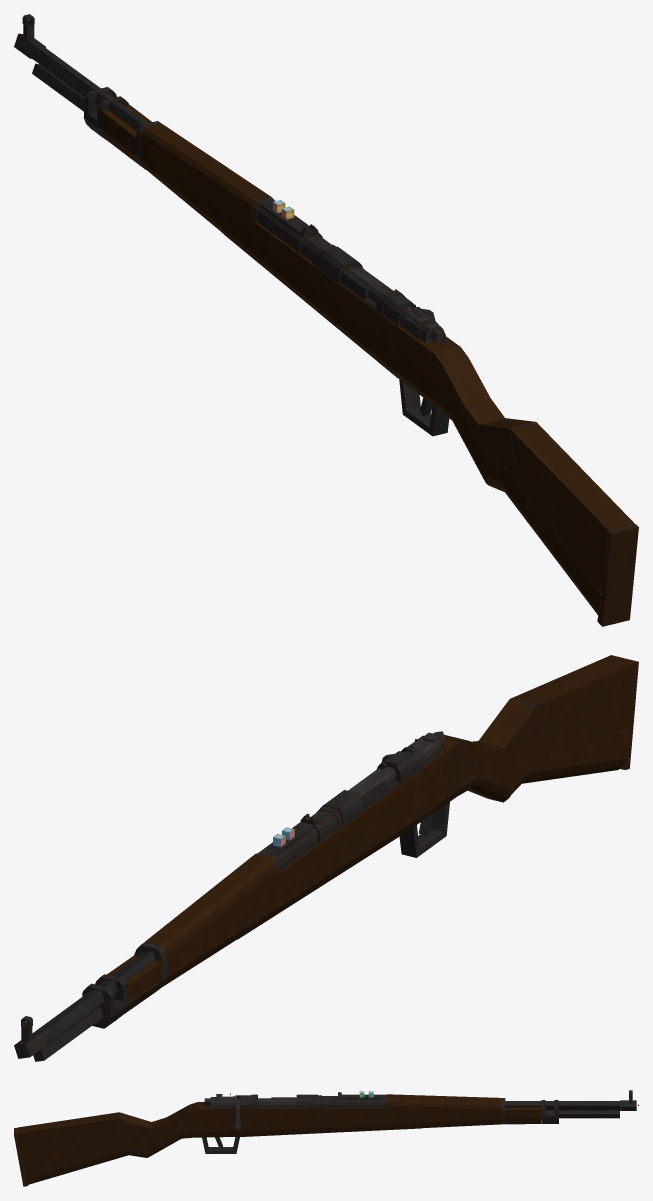
The model's file is a7_kar98k.geo.fbx.
3 views of the same model, one above another, from view 1: azimuth 30°, elevation 25°; view 2: azimuth 150°, elevation 25°; view 3: azimuth 270°, elevation 25° (orthographic). The views are drawn at different scales.
Visible parts, largest first — view 1: stock, gun, bone3, topbarrelhg, bone9, bone, bone5, bone14, gun2, bolt, bone7; view 2: gun, stock, bone3, topbarrelhg, bone9, bone, bone7, bone5, bone14, gun2, bolt; view 3: gun, stock, bone3, bone9, topbarrelhg, bone, bone5, bone7, bone14, gun2, bolt, bone6 (+3 smaller).
Part boxes in pixels (<box>): stock: <box>433,346,638,626</box>; gun: <box>14,14,459,436</box>; bone3: <box>218,209,397,377</box>; topbarrelhg: <box>141,123,274,219</box>; bone9: <box>497,464,602,615</box>; bone: <box>140,137,223,230</box>; bone5: <box>391,347,441,411</box>; bone14: <box>100,105,152,166</box>; gun2: <box>256,206,331,264</box>; bolt: <box>400,307,445,343</box>; bone7: <box>445,392,487,484</box>; gun: <box>14,738,465,1061</box>; stock: <box>444,655,638,770</box>; bone3: <box>237,796,418,939</box>; topbarrelhg: <box>145,853,276,957</box>; bone9: <box>522,737,629,783</box>; bone: <box>161,905,249,987</box>; bone7: <box>468,754,514,802</box>; bone5: <box>414,764,466,826</box>; bone14: <box>107,955,162,1015</box>; gun2: <box>276,810,337,871</box>; bolt: <box>401,731,445,766</box>; gun: <box>191,1090,636,1153</box>; stock: <box>14,1102,199,1186</box>; bone3: <box>240,1112,420,1136</box>; bone9: <box>23,1139,131,1184</box>; topbarrelhg: <box>386,1094,501,1110</box>; bone: <box>415,1108,501,1128</box>; bone5: <box>192,1120,241,1137</box>; bone7: <box>139,1121,183,1157</box>; bone14: <box>505,1107,541,1124</box>; gun2: <box>322,1096,383,1108</box>; bolt: <box>204,1094,234,1108</box>; bone6: <box>179,1119,198,1138</box>.
Bounding box in the file's own units: 38.57 × 135 × 827.
Materials: 1 (1 with a texture image).
